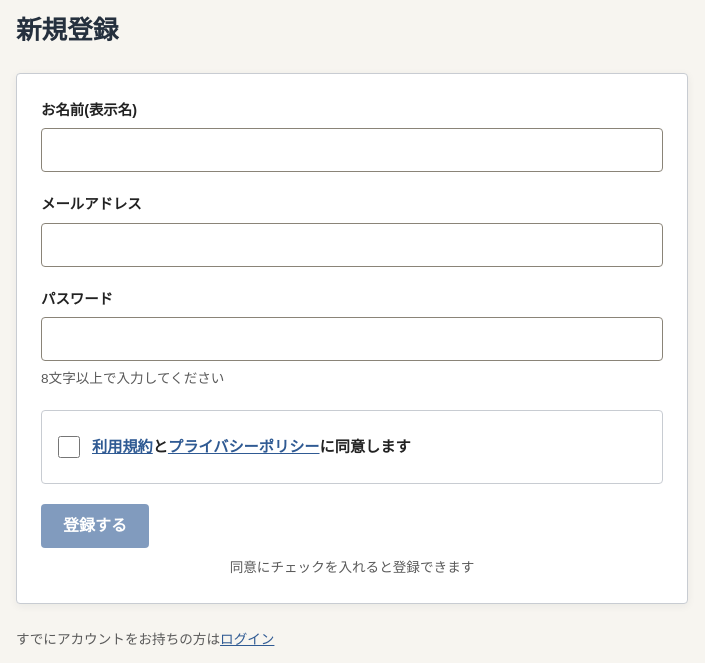
Test: SignupPage: 規約同意チェックボックス › チェックするまで登録ボタンが押せず、理由が表示される。チェックすると理由の文言が変わり押せるようになる
The width and height of the screenshot is (705, 663).
Expected: the button "登録する" is disabled, [41,504,149,548]
Expected: the text "同意にチェックを入れると登録できます" is shown, [230,560,474,575]
Click the checkbox labelled "利用規約 と プライバシーポリシー に同意します".
click(69, 447)  # box [58,436,80,458]
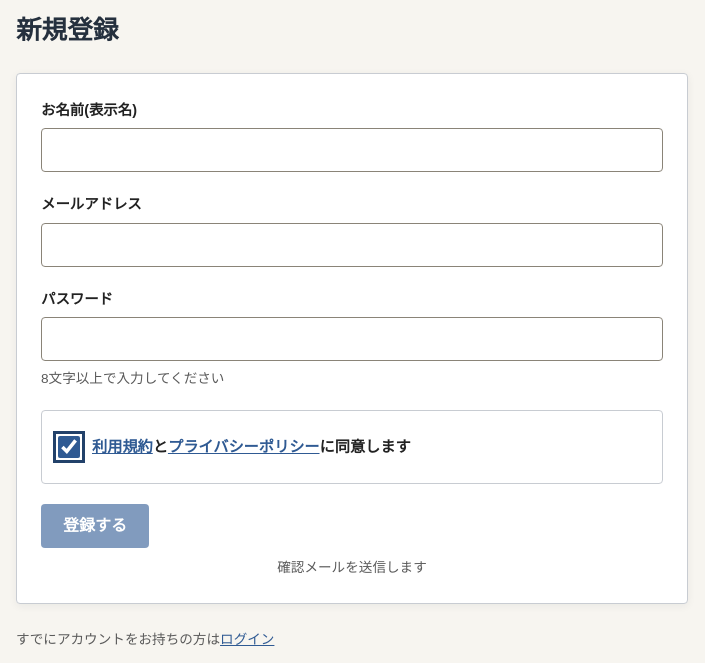
Expected: the button "登録する" is disabled, [41,504,149,548]
Expected: the text "確認メールを送信します" is shown, [277,560,427,575]
